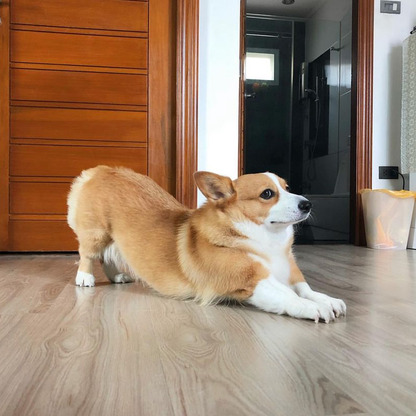Corgi: (50, 131, 365, 334)
